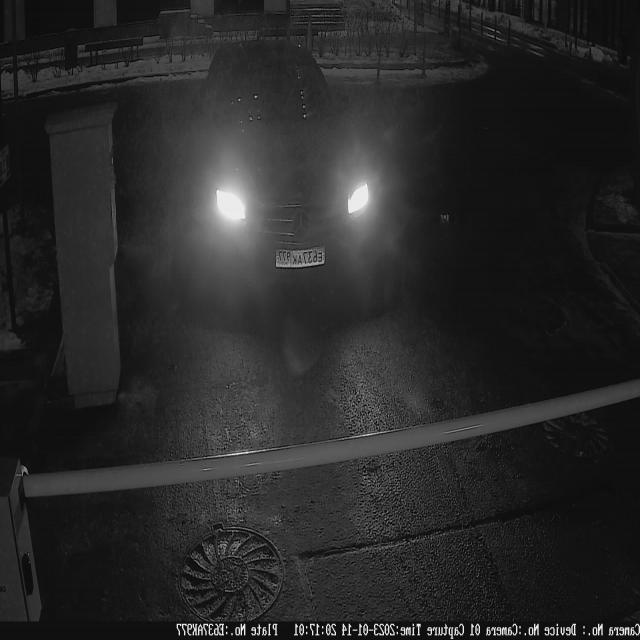car-plate-numbers: (271, 238, 329, 279)
